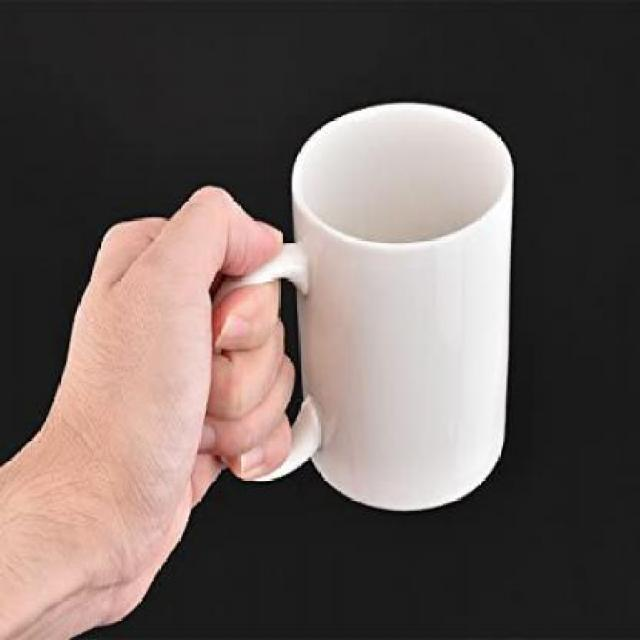taza: (187, 94, 534, 520)
